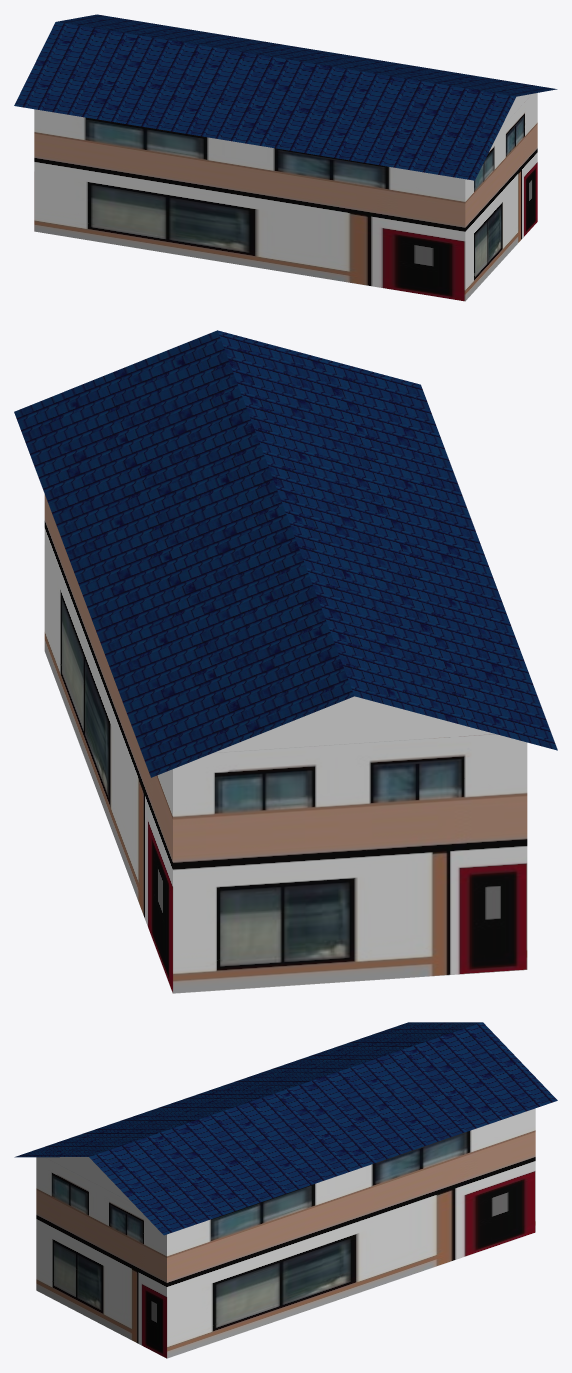
3 renders of one model, top to bottom at view 1: azimuth 30°, elevation 25°; view 2: azimuth 150°, elevation 25°; view 3: azimuth 270°, elevation 25°, orthographic. The views are drawn at different scales.
Parts seen in each view (by area): view 1: CityEngineMaterial_5_m, CityEngineMaterial_6_m; view 2: CityEngineMaterial_6_m, CityEngineMaterial_5_m, CityEngineMaterial_3_m; view 3: CityEngineMaterial_5_m, CityEngineMaterial_6_m, CityEngineMaterial_3_m.
Boxes of the visible parts, box(x1,y1,x2,y2) form: CityEngineMaterial_5_m: box(34, 93, 537, 301); CityEngineMaterial_6_m: box(14, 14, 557, 180); CityEngineMaterial_6_m: box(14, 330, 557, 777); CityEngineMaterial_5_m: box(44, 494, 527, 993); CityEngineMaterial_3_m: box(214, 696, 494, 752); CityEngineMaterial_5_m: box(36, 1108, 535, 1358); CityEngineMaterial_6_m: box(14, 1022, 557, 1235); CityEngineMaterial_3_m: box(45, 1157, 132, 1202).
Size of the model in its own units: 30.88 by 11.61 by 33.31.
